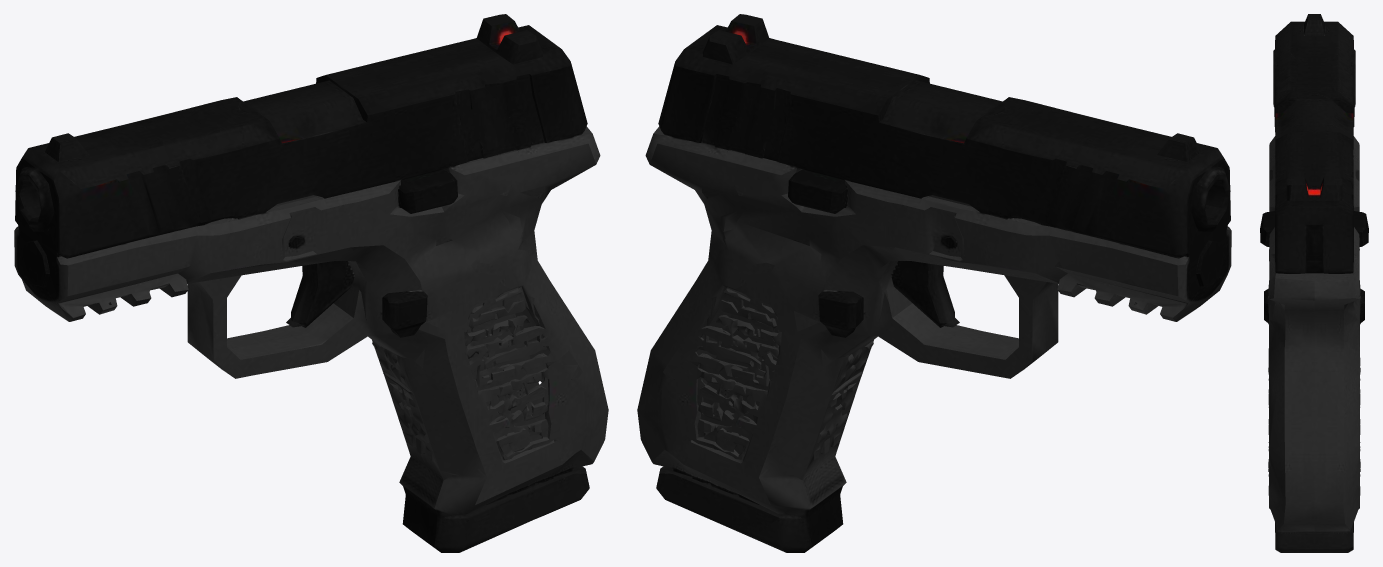
Rendered from compact_polymer_pistol.glb.
3 renders of one model, left to right at view 1: azimuth 30°, elevation 25°; view 2: azimuth 150°, elevation 25°; view 3: azimuth 270°, elevation 25°, orthographic. The views are drawn at different scales.
Parts seen in each view (by area): view 1: world; view 2: world; view 3: world.
Boxes of the visible parts, box(x1,y1,x2,y2) form: world: box(14, 14, 608, 552); world: box(637, 14, 1231, 552); world: box(1260, 14, 1368, 552).
Bounding box in the file's own units: 1 × 0.8442 × 0.2222.
1 material, 1 textured.
